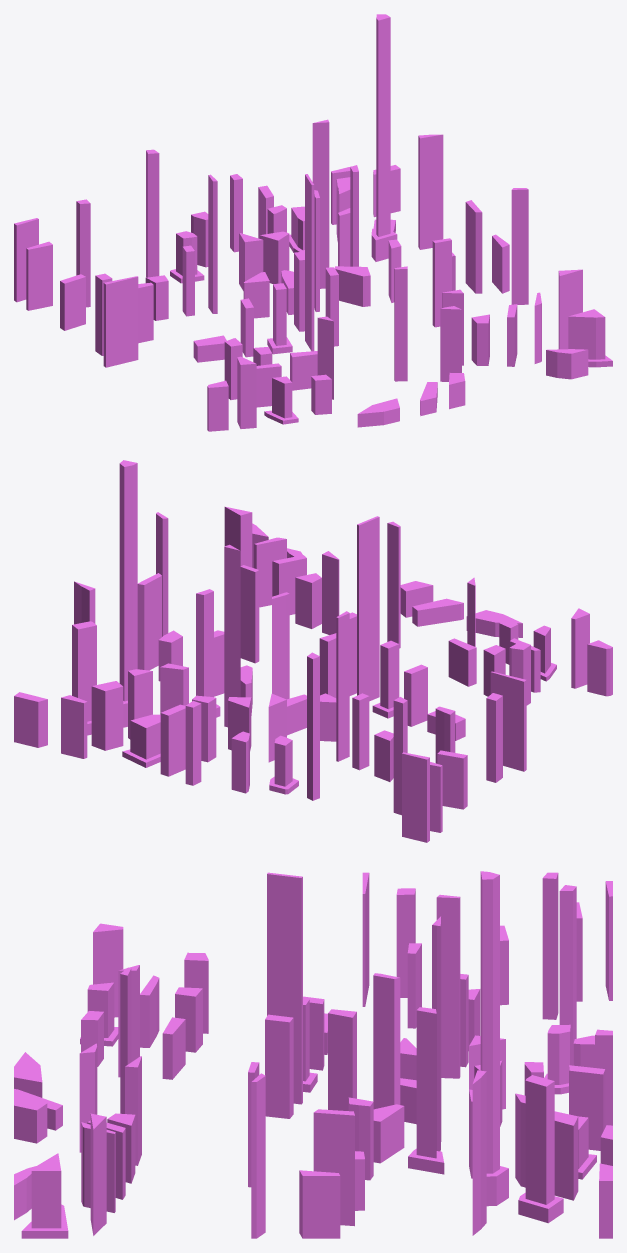
File: buildings_00073.obj
3 views of the same model, one above another, from view 1: azimuth 30°, elevation 25°; view 2: azimuth 150°, elevation 25°; view 3: azimuth 270°, elevation 25° (orthographic). The views are drawn at different scales.
Size of the model in its own units: 1460 by 871 by 1460.
